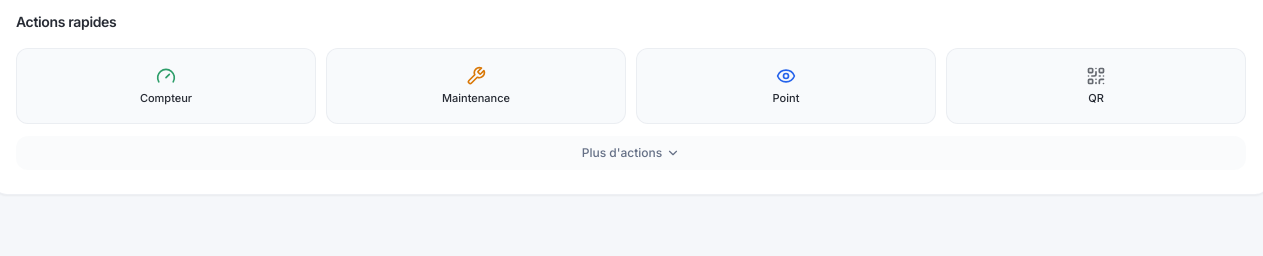
Test: QuickActions (équipement) › cache les actions secondaires tant que "Plus d'actions" n'est pas ouvert
Expected: the text "Pièce" is not shown
Expected: the text "Carburant" is not shown
Click the button "Plus d'actions" at (631, 153), box [16,136,1246,170]
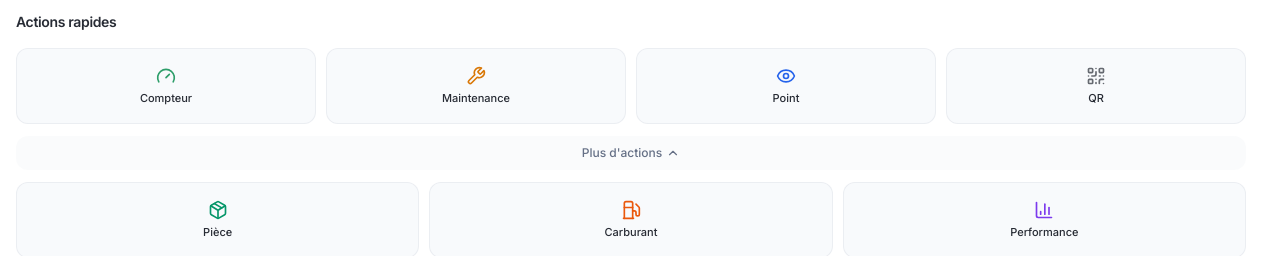
Expected: the text "Pièce" is shown, [203,226,232,240]
Expected: the text "Carburant" is shown, [604,226,658,240]
Expected: the text "Performance" is shown, [1010,226,1078,240]
